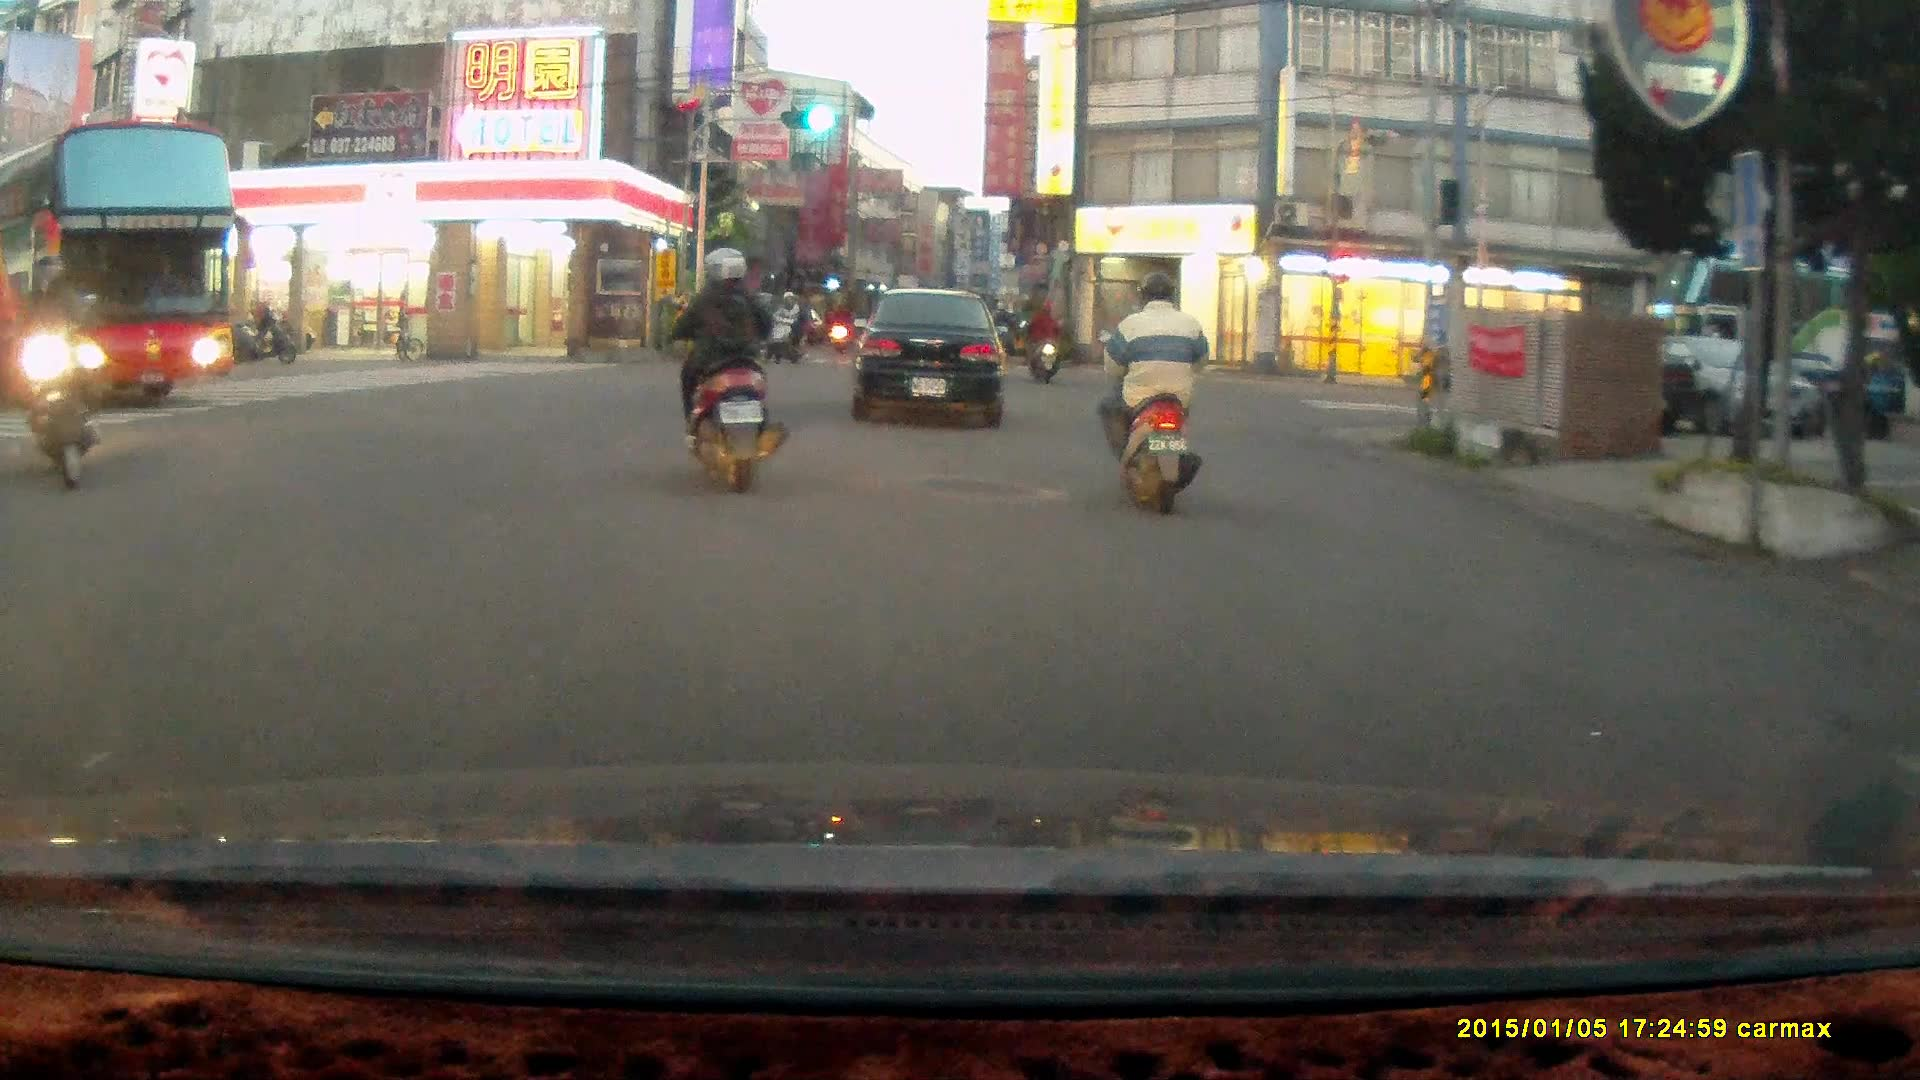rider: (665, 248, 791, 494), (1096, 269, 1210, 515), (5, 249, 101, 495), (1023, 297, 1061, 387), (766, 287, 804, 366)
vehicle: (1, 124, 237, 414), (1566, 334, 1821, 442), (852, 288, 1004, 430)
